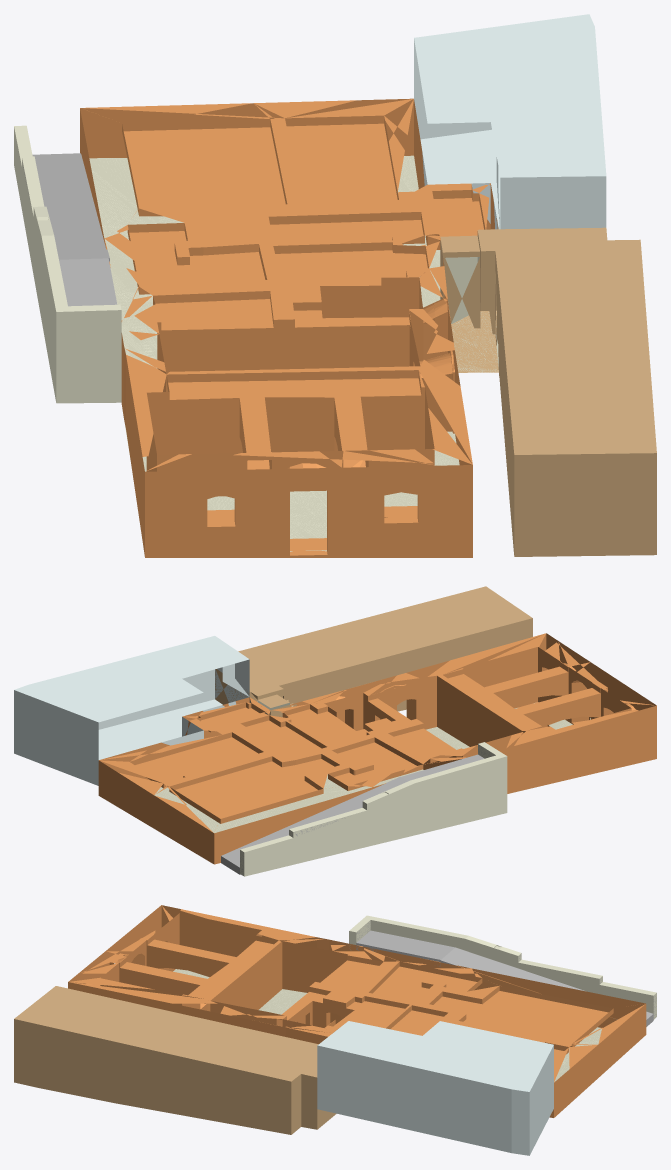
File: obvodove_steny_prizemi.dae
The picture shows the model from 3 angles, top to bottom: view 1: azimuth 30°, elevation 25°; view 2: azimuth 150°, elevation 25°; view 3: azimuth 270°, elevation 25°; orthographic projection. The views are drawn at different scales.
Parts seen in each view (by area): view 1: SketchUp (×9), group_0; view 2: SketchUp (×7), group_0; view 3: SketchUp (×7), group_0.
Part boxes in pixels (<box>): SketchUp (×9): <box>14,14,656,557</box>; group_0: <box>32,153,117,306</box>; SketchUp (×7): <box>14,586,656,876</box>; group_0: <box>221,754,484,874</box>; SketchUp (×7): <box>14,905,656,1155</box>; group_0: <box>356,930,653,1026</box>.
Bounding box in the file's own units: 789 × 953 × 157.
